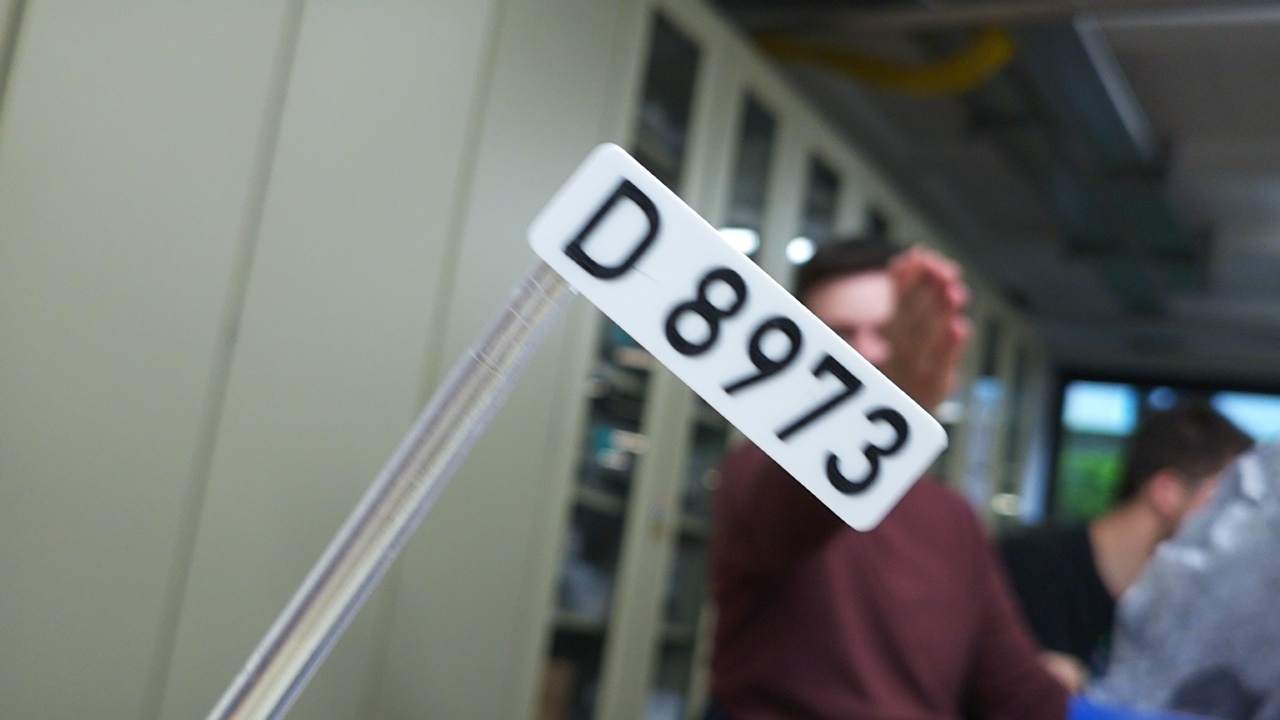license_plate: (520, 136, 951, 538)
